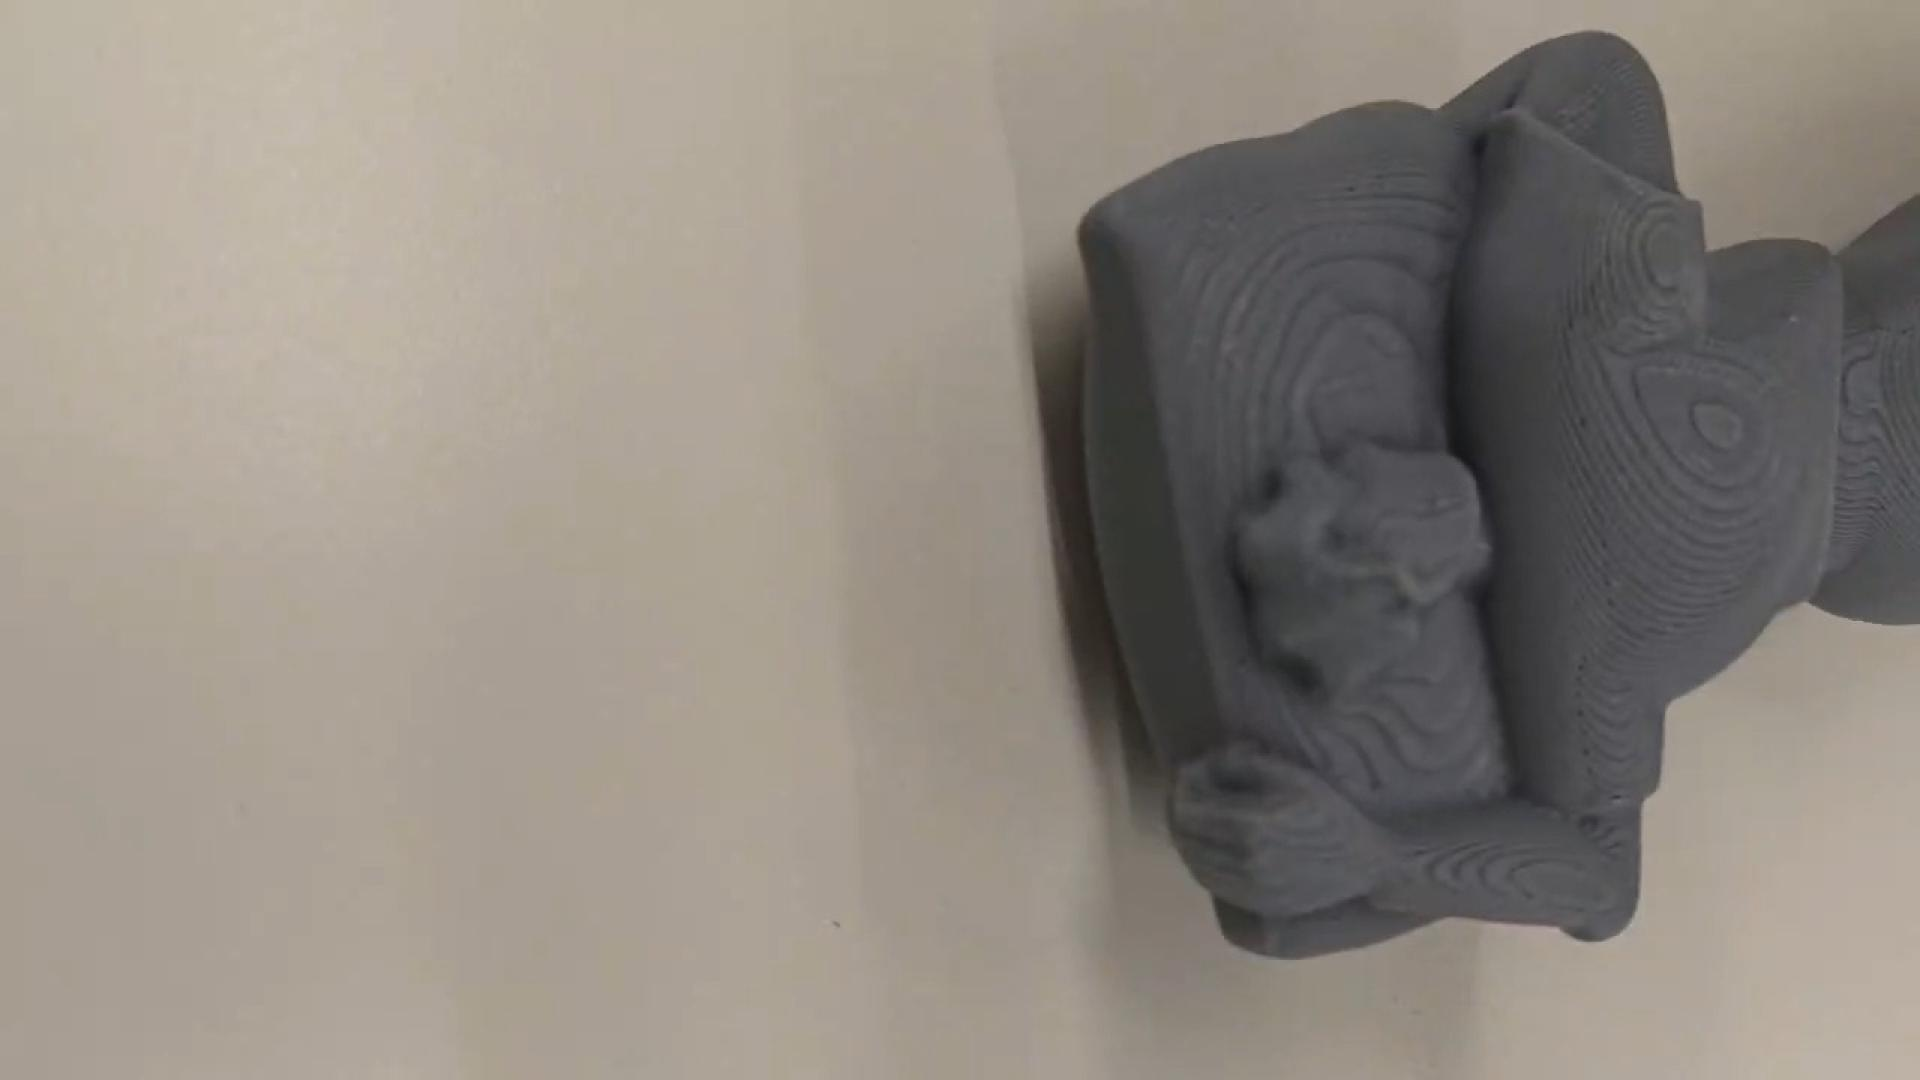Bad-style: (1075, 29, 1920, 977)
